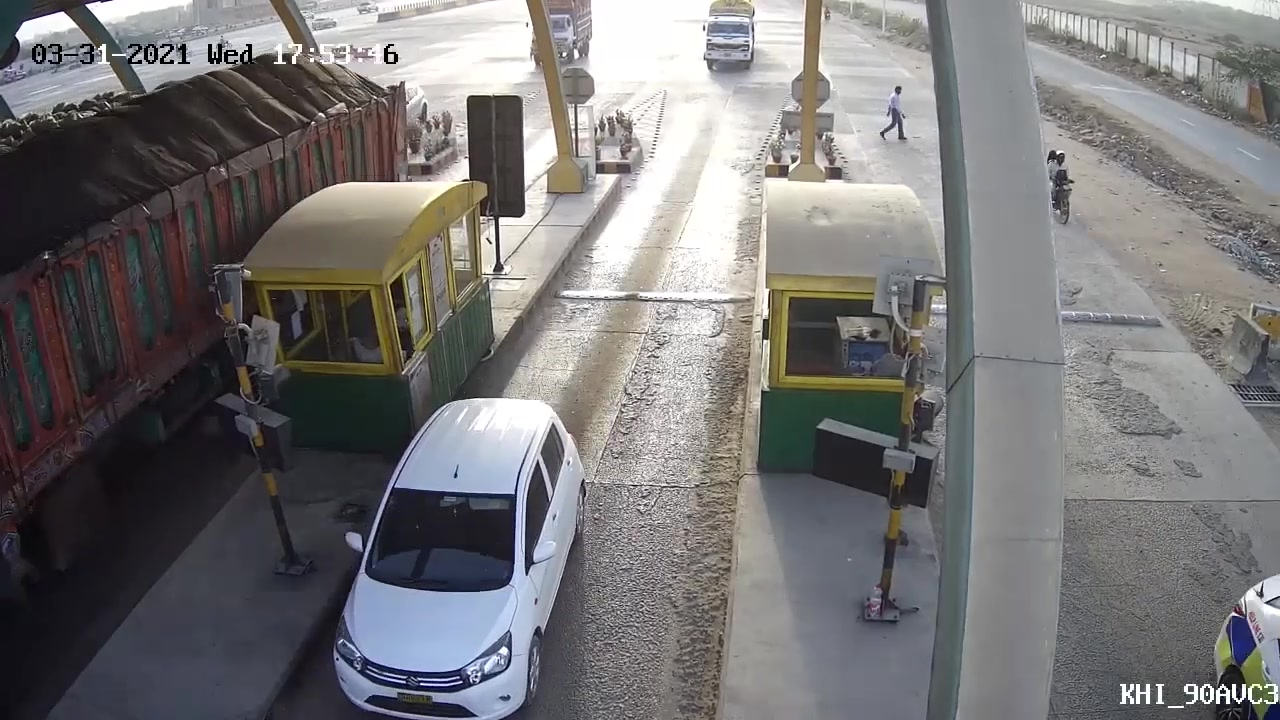F1: (307, 396, 604, 716)
